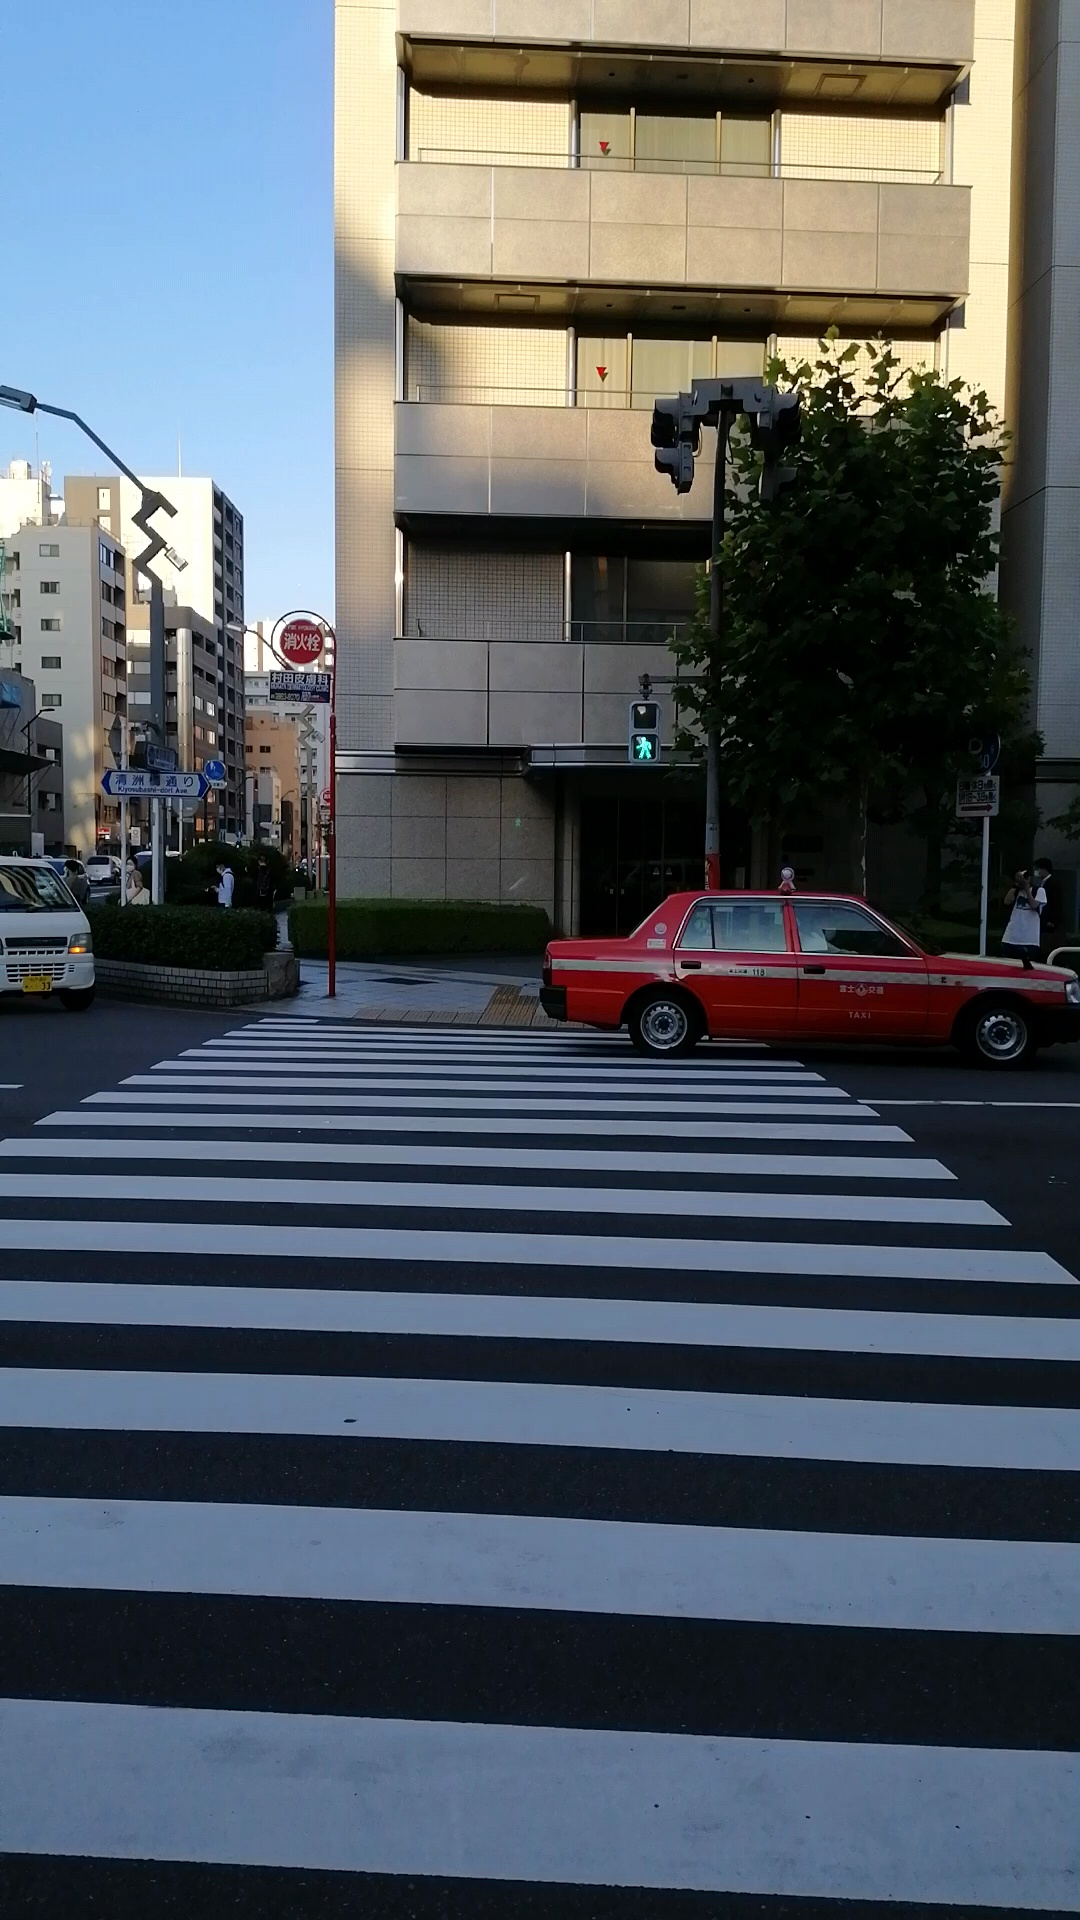green: (628, 698, 661, 765)
